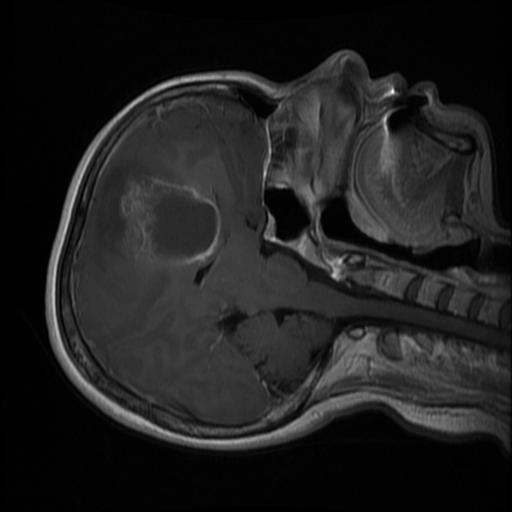glioma: (117, 169, 224, 270)
